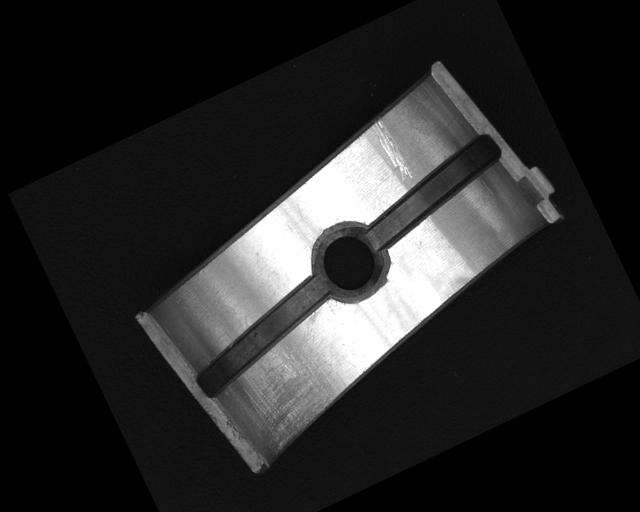gap: (176, 270, 350, 398), (345, 129, 517, 252)
hole: (297, 207, 402, 317)
nick: (369, 114, 414, 186)
scratch: (219, 307, 369, 458)
